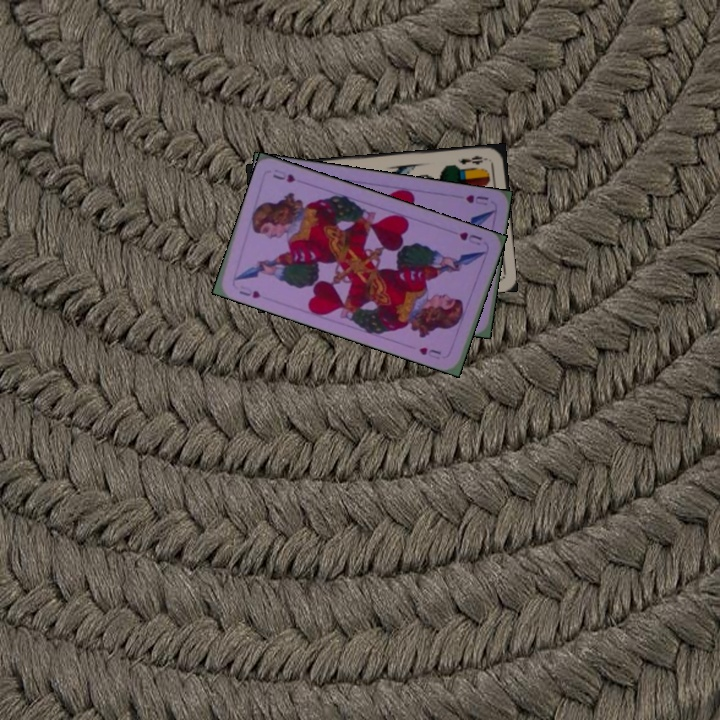EO: (454, 151, 490, 167)
HU: (455, 228, 484, 248), (235, 281, 263, 301), (462, 191, 491, 206)
